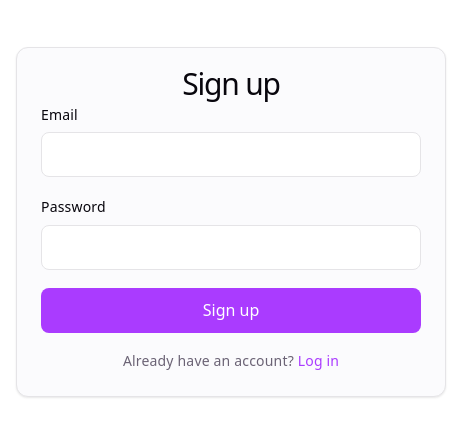
Test: Signup › shows an error message on duplicate email
In the field labelled "Email": point(231, 155) [41,132,421,177], type "jane@example.com"
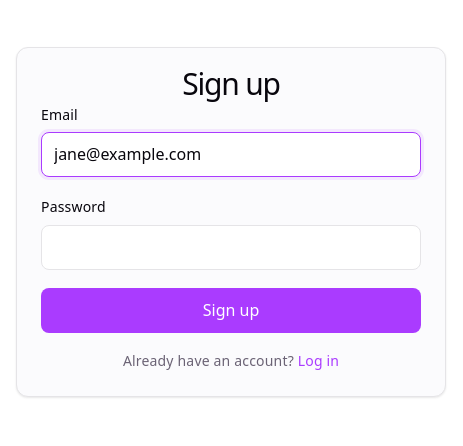
In the password field labelled "Password": point(231, 247) [41,225,421,270], type "hunter22"
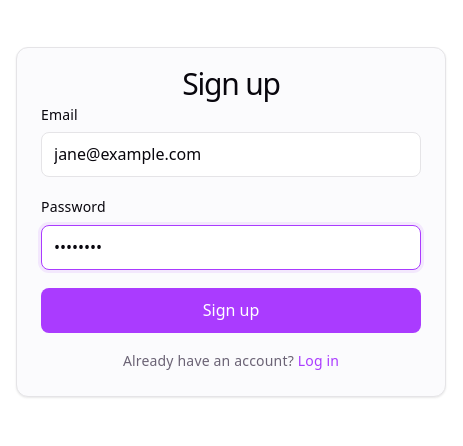
Click the button "Sign up": point(231, 310) [41,288,421,333]
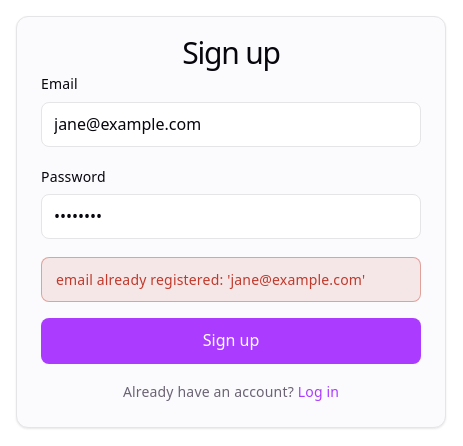
Result: the text "email already registered: 'jane@example.com'" is shown at [41,257,421,302]
